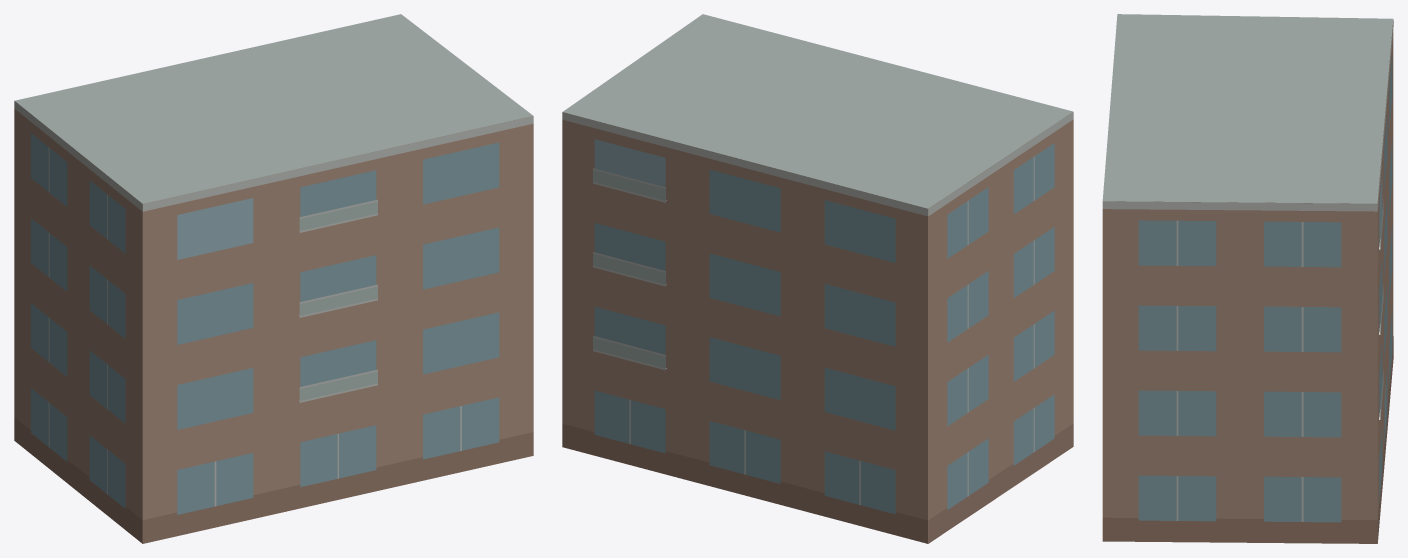
Rendered from survey-upis-32938291.glb.
The picture shows the model from 3 angles, left to right: view 1: azimuth 30°, elevation 25°; view 2: azimuth 150°, elevation 25°; view 3: azimuth 270°, elevation 25°; orthographic projection.
Parts seen in each view (by area): view 1: survey-upis-32938291.tmp; view 2: survey-upis-32938291.tmp; view 3: survey-upis-32938291.tmp.
Boxes of the visible parts, x1,y1,x2,y2 form: survey-upis-32938291.tmp: (14, 14, 533, 543); survey-upis-32938291.tmp: (562, 14, 1073, 543); survey-upis-32938291.tmp: (1102, 14, 1393, 543).
Bounding box in the file's own units: 12.69 × 10.6 × 8.22.
